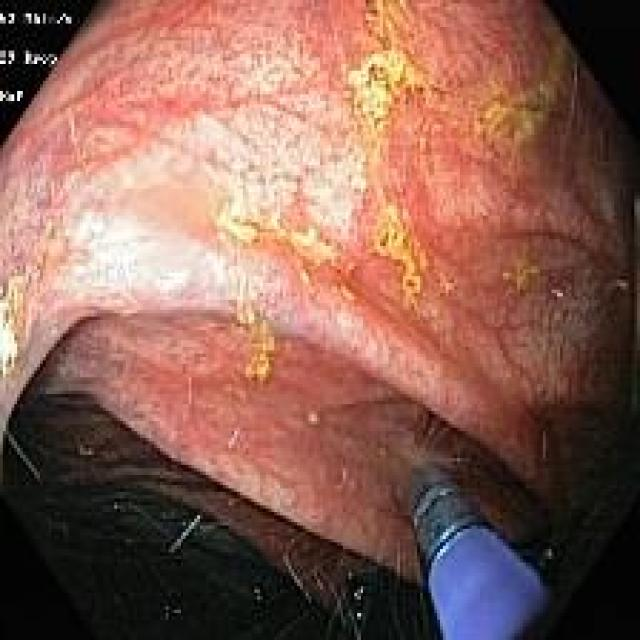ulcerative-colitis-grade-0-1: (32, 40, 536, 280)
